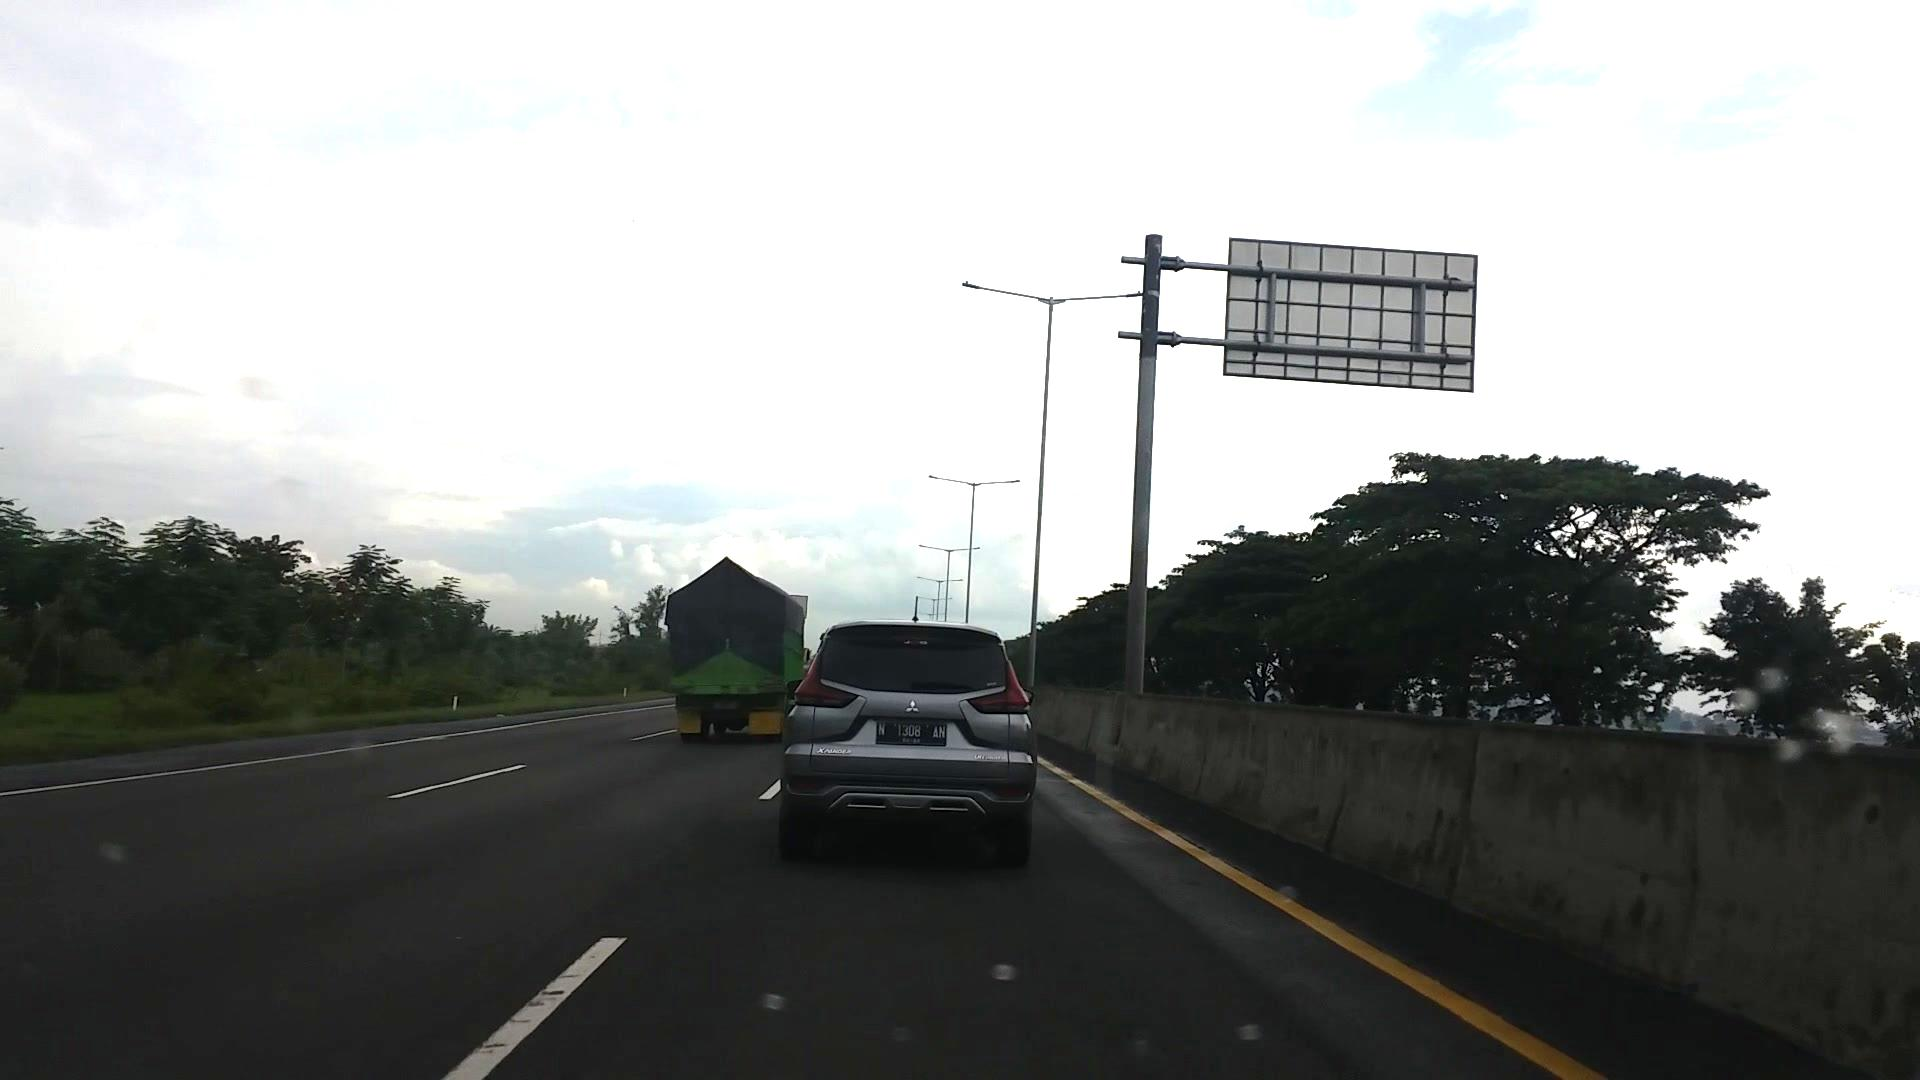plate_positive: (876, 720, 947, 746)
